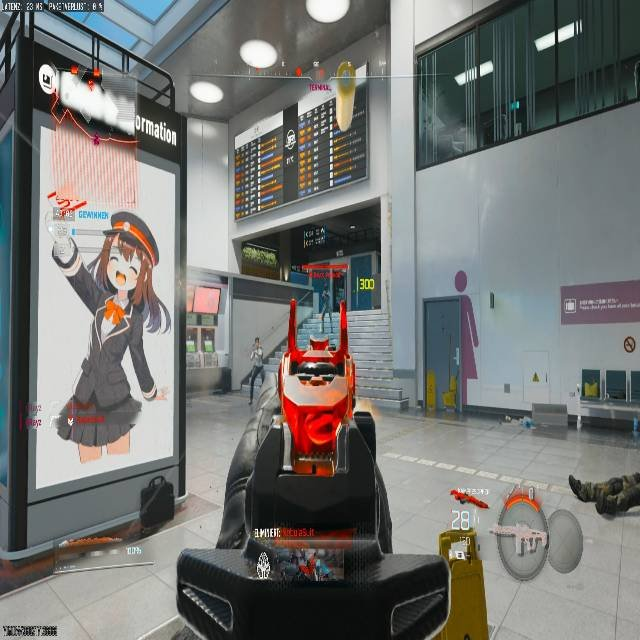player: (217, 337, 394, 582), (50, 210, 167, 456), (240, 336, 265, 394)
